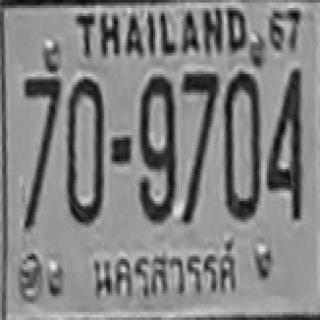N00: (65, 77, 104, 222), (223, 70, 260, 218)
N04: (265, 67, 300, 218)
N07: (181, 70, 218, 216), (24, 75, 61, 218), (24, 75, 61, 179), (181, 70, 218, 173), (25, 76, 60, 168), (181, 70, 218, 157)
N09: (137, 74, 175, 220)
P31: (88, 234, 241, 308)
